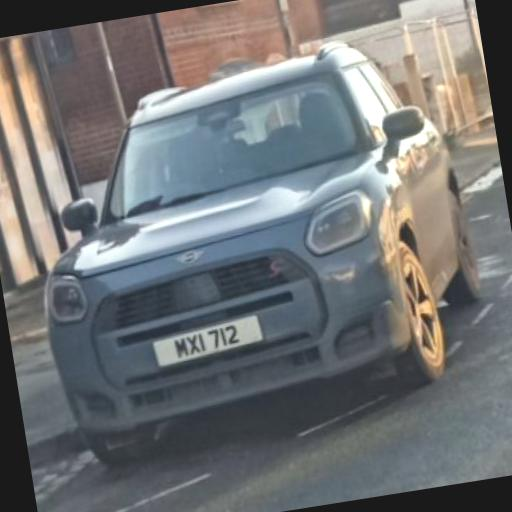numberplates: (153, 316, 263, 367)
